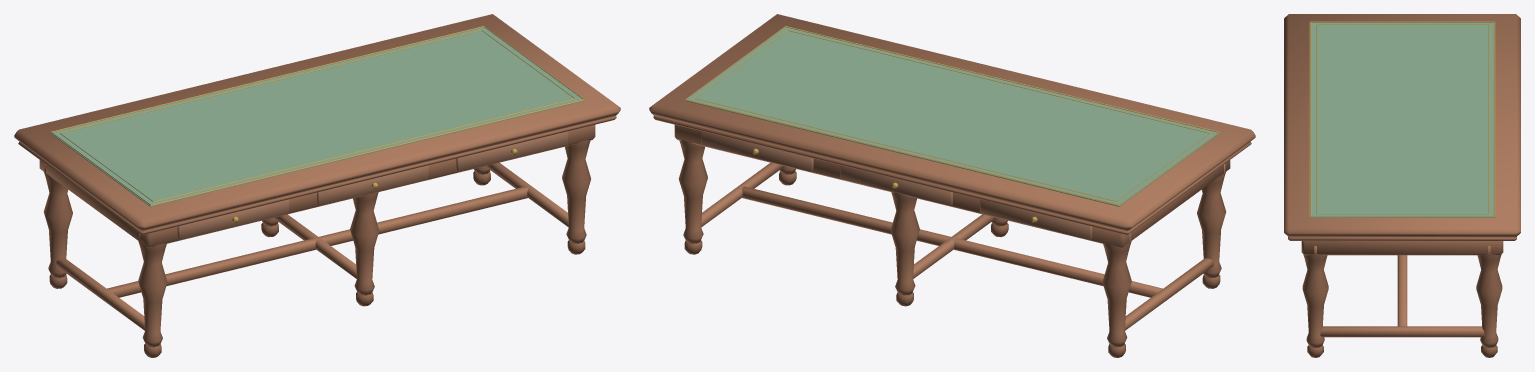
File: library_table.glb
The picture shows the model from 3 angles, left to right: view 1: azimuth 30°, elevation 25°; view 2: azimuth 150°, elevation 25°; view 3: azimuth 270°, elevation 25°; orthographic projection. The views are drawn at different scales.
Parts seen in each view (by area): view 1: library_table; view 2: library_table; view 3: library_table.
Boxes of the visible parts, x1,y1,x2,y2 form: library_table: (14,14,620,357); library_table: (649,14,1255,357); library_table: (1284,14,1520,357).
Size of what is drawn, in the model's own units: 2.6 by 0.8 by 1.2.
